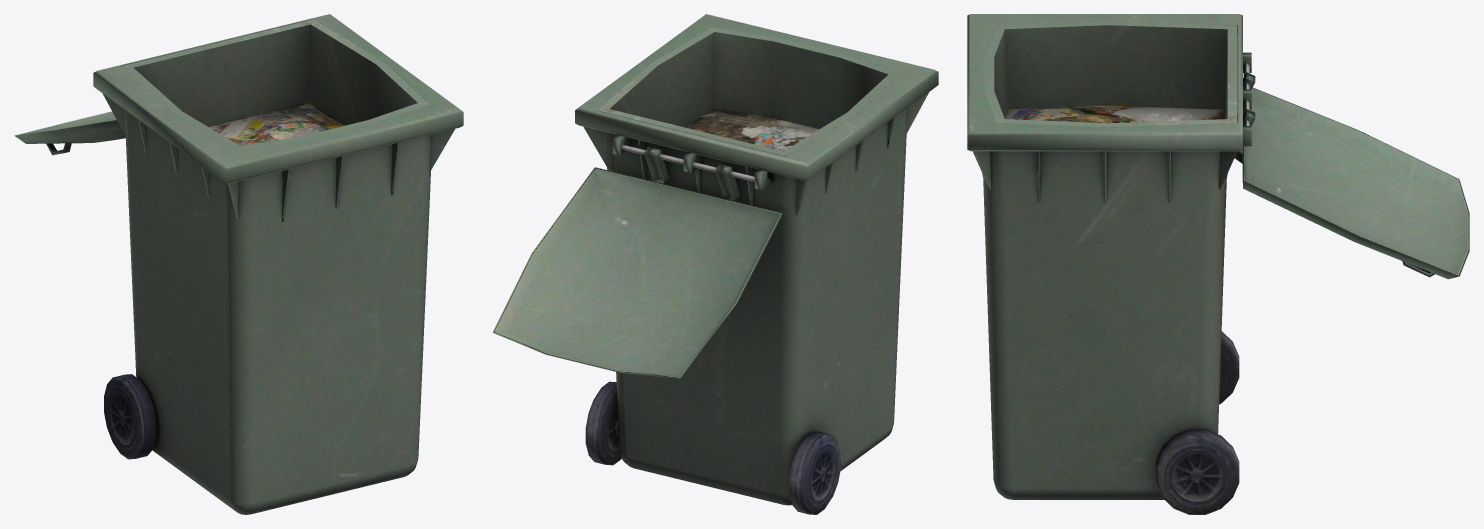
Rendered from muelltonne_offen_0001a.fbx.
3 views of the same model, side by side, from view 1: azimuth 30°, elevation 25°; view 2: azimuth 150°, elevation 25°; view 3: azimuth 270°, elevation 25° (orthographic). The views are drawn at different scales.
Parts seen in each view (by area): view 1: Mesh; view 2: Mesh; view 3: Mesh.
Boxes of the visible parts, x1,y1,x2,y2 form: Mesh: (14, 14, 463, 514); Mesh: (492, 14, 938, 514); Mesh: (967, 14, 1469, 514).
Bounding box in the file's own units: 92 × 138 × 162.
